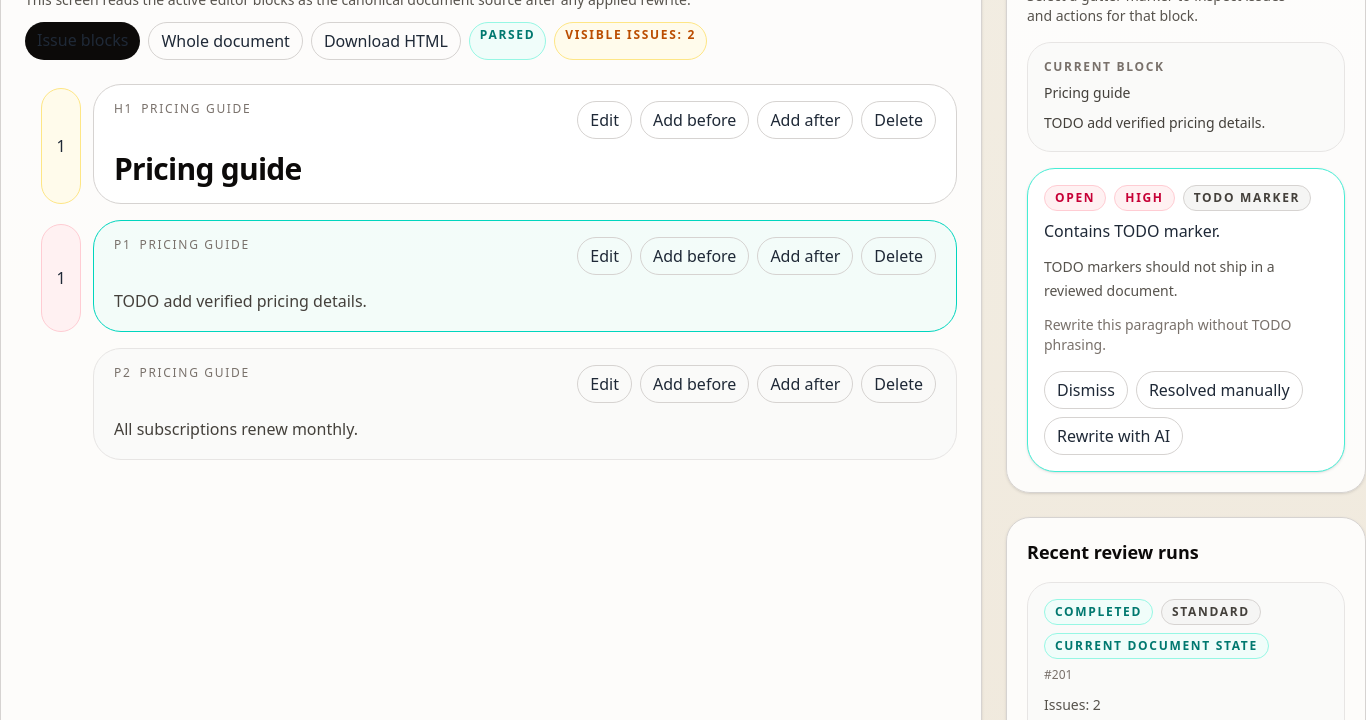
Test: AIReviewEditor frontend › insert before adds a new block in the expected position and creates a version entry
This screenshot has width=1366, height=720.
(page scrolled)
Click the button "Add before" in the row of "p2".
click(695, 384)  # box [640,365,749,403]
(page scrolled)
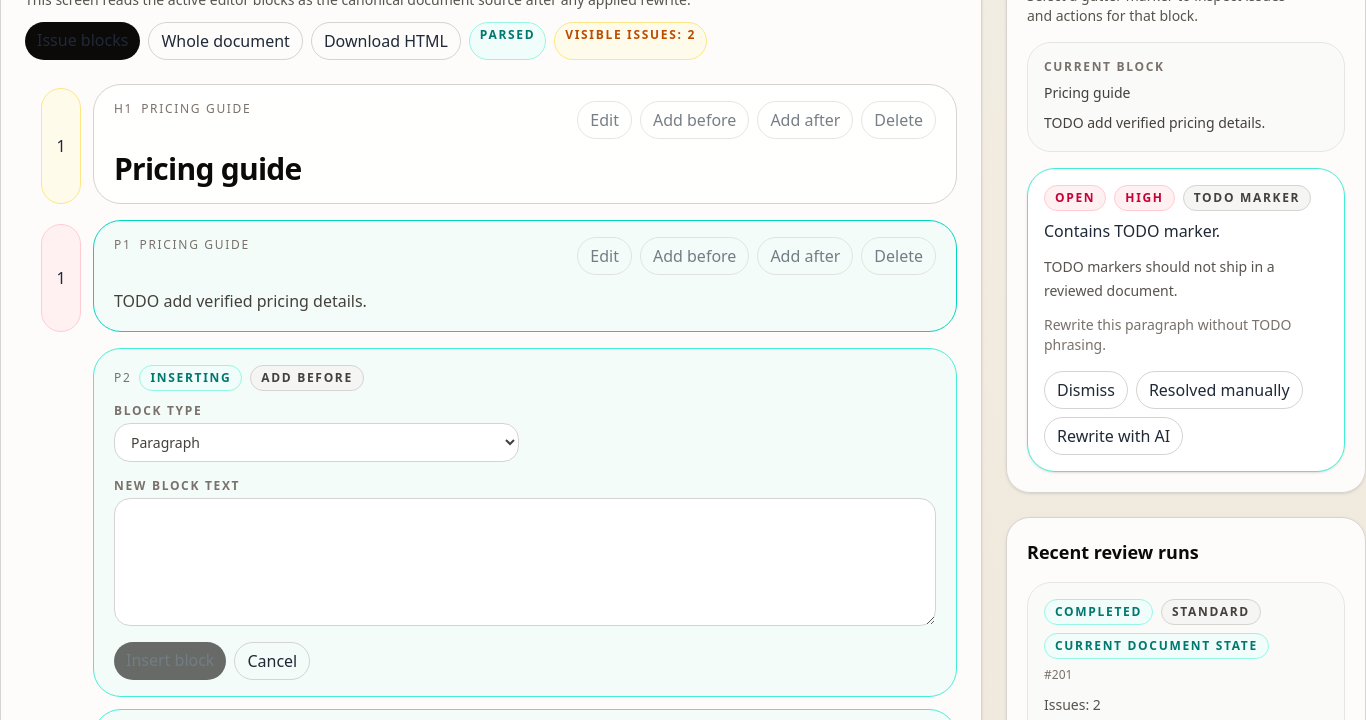
Type "Key pricing variables include seats and usage volume." into the text box.
click(525, 562); type("Key pricing variables include seats and usage volume.")  # box [114,498,936,626]
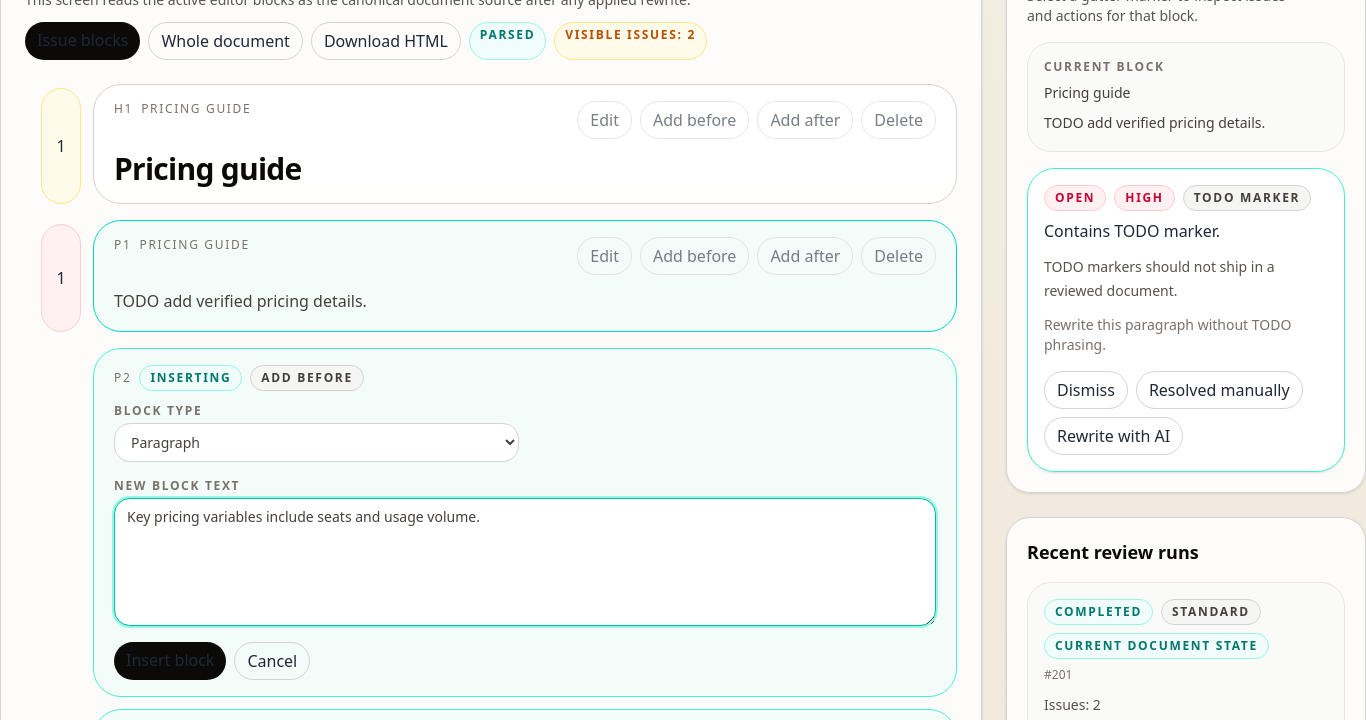
Click the button "Insert block".
click(170, 661)  # box [114,642,226,680]
(page scrolled)
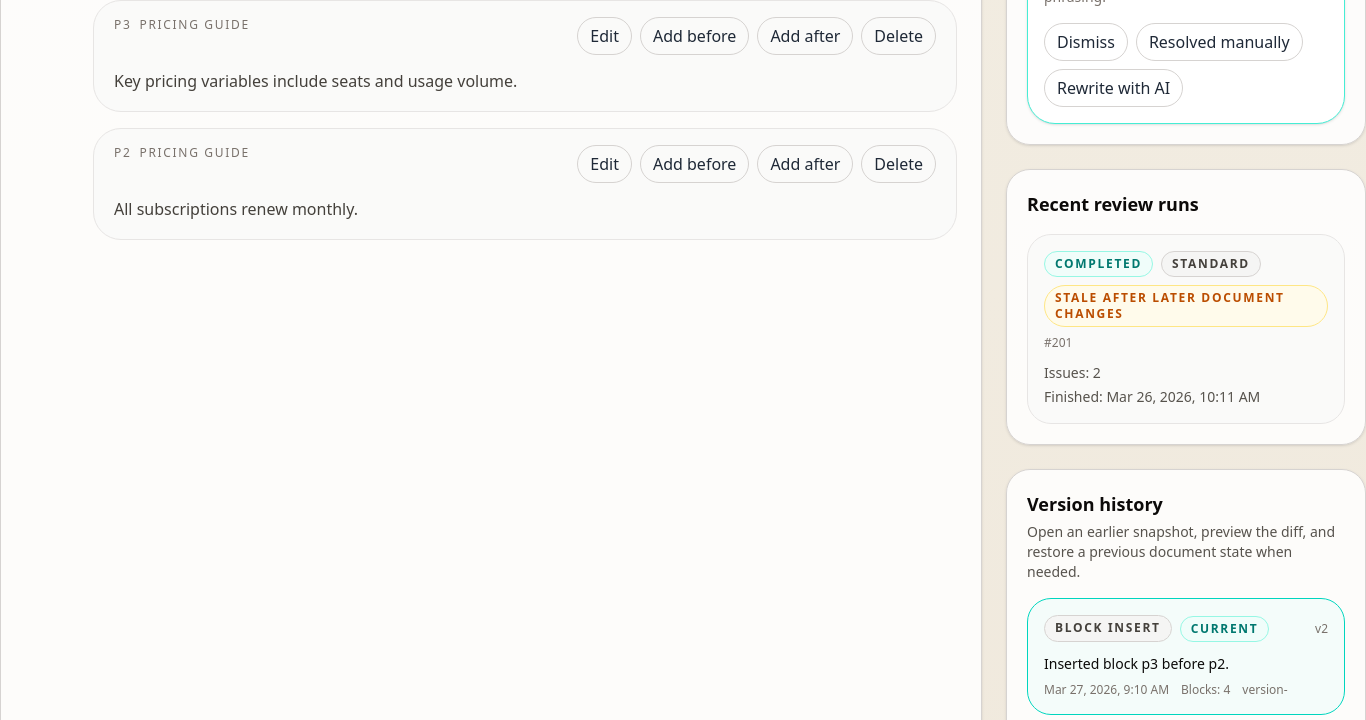
Expected: the text "Key pricing variables include seats and usage volume." is shown, [114,70,517,92]
Expected: the button with test id "ai-review-version-402" shows "Inserted block p3 before p2.", [1027,598,1345,715]
